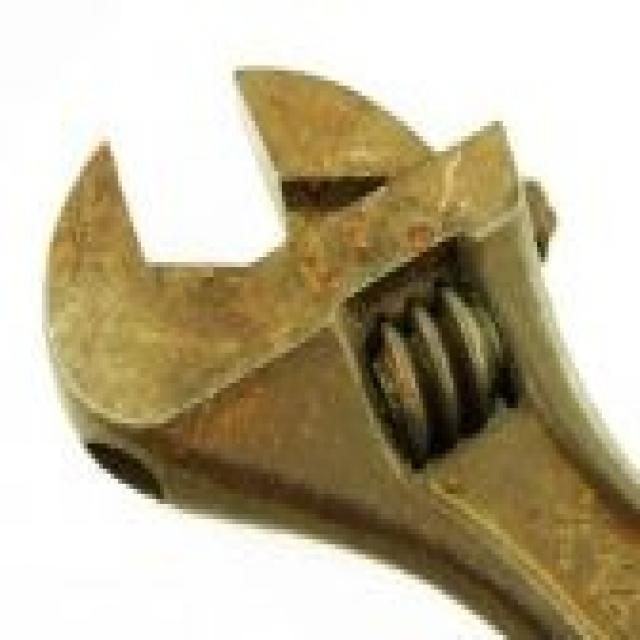wrench: (34, 50, 640, 640)
